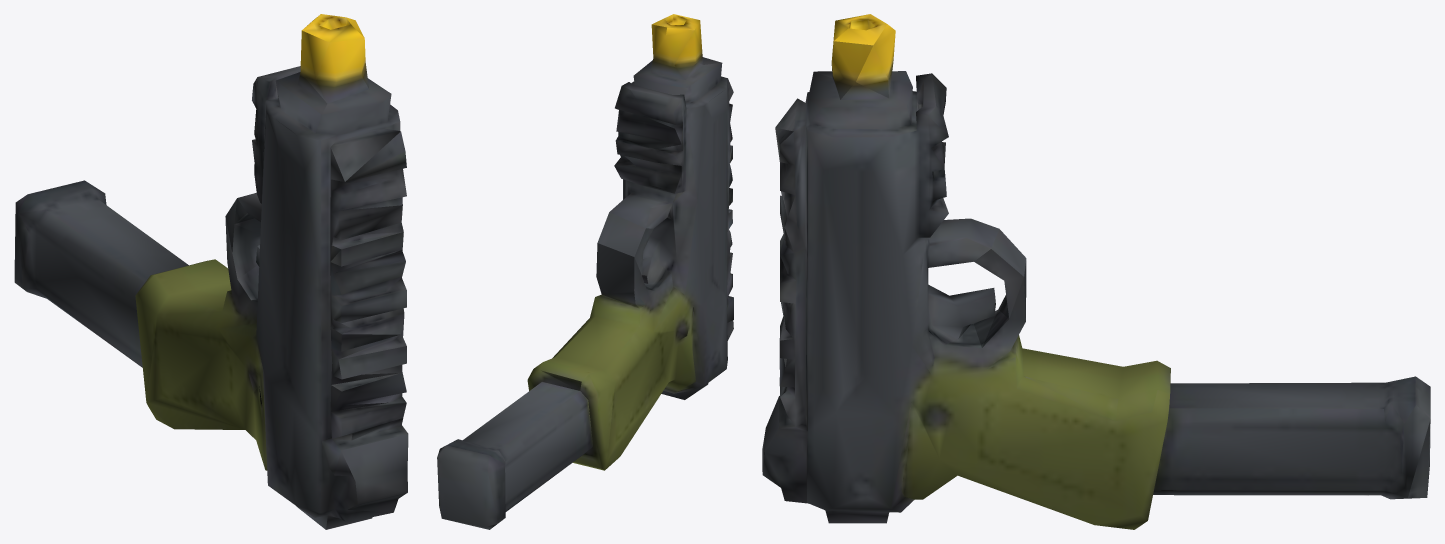
The model's file is rattler.glb.
3 views of the same model, side by side, from view 1: azimuth 30°, elevation 25°; view 2: azimuth 150°, elevation 25°; view 3: azimuth 270°, elevation 25° (orthographic). The views are drawn at different scales.
Visible parts, largest first — view 1: rattler, part_mag; view 2: rattler, part_mag; view 3: rattler, part_mag.
Boxes of the visible parts, left/top/right/bottom form: rattler: left=135, top=14, right=408, bottom=529; part_mag: left=14, top=180, right=188, bottom=367; rattler: left=527, top=14, right=733, bottom=470; part_mag: left=437, top=370, right=592, bottom=529; rattler: left=762, top=14, right=1170, bottom=529; part_mag: left=1153, top=376, right=1430, bottom=499.
Size of the model in its own units: 0.069 by 0.3106 by 0.3845.
1 material, 1 textured.
